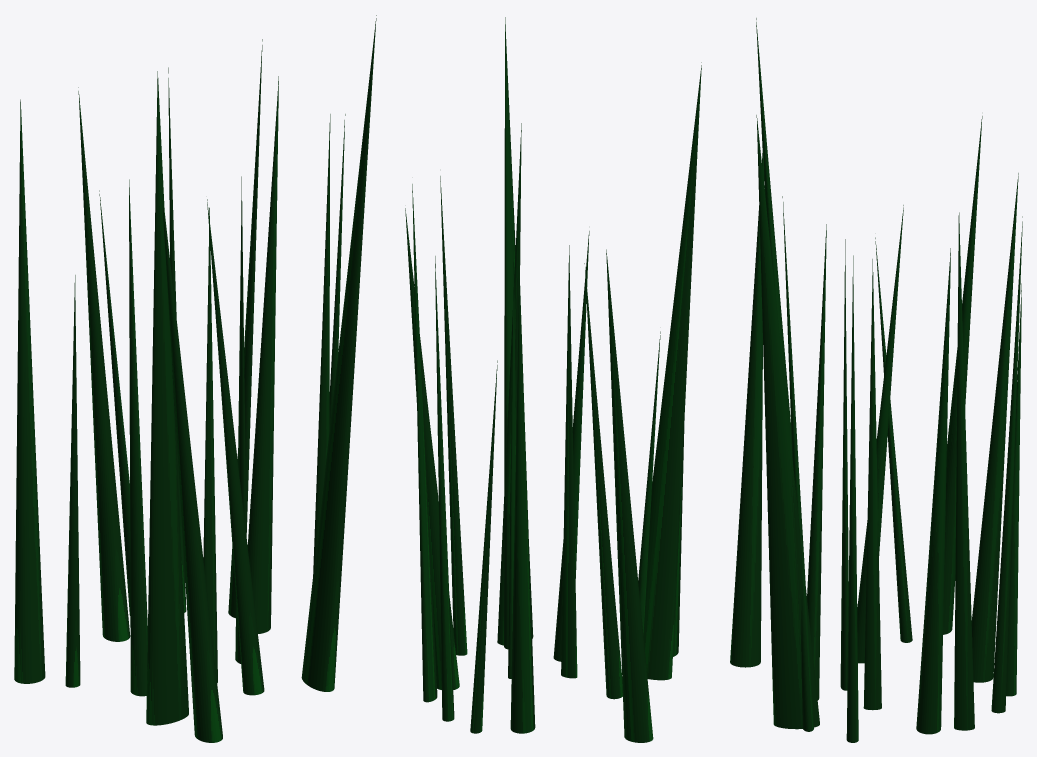
The model's file is ObjectTallGrass.dae.
3 renders of one model, left to right at view 1: azimuth 30°, elevation 25°; view 2: azimuth 150°, elevation 25°; view 3: azimuth 270°, elevation 25°, orthographic. The views are drawn at different scales.
Parts seen in each view (by area): view 1: Cone.015, Cone, Cone.014, Cone.001, Cone.002, Cone.013, Cone.006, Cone.009, Cone.004, Cone.012, Cone.010, Cone.005 (+4 smaller); view 2: Cone.015, Cone.014, Cone.002, Cone.009, Cone.005, Cone.012, Cone, Cone.013, Cone.008, Cone.007, Cone.011, Cone.010 (+4 smaller); view 3: Cone, Cone.001, Cone.002, Cone.013, Cone.005, Cone.003, Cone.014, Cone.007, Cone.006, Cone.008, Cone.009, Cone.010 (+4 smaller).
Part boxes in pixels (<box>): Cone.015: <box>146,71,188,725</box>; Cone: <box>301,15,376,691</box>; Cone.014: <box>14,99,45,683</box>; Cone.001: <box>163,200,222,742</box>; Cone.002: <box>78,87,130,641</box>; Cone.013: <box>247,76,278,633</box>; Cone.006: <box>207,199,264,695</box>; Cone.009: <box>129,179,147,696</box>; Cone.004: <box>65,275,80,687</box>; Cone.012: <box>203,207,217,682</box>; Cone.010: <box>313,114,330,578</box>; Cone.005: <box>228,39,262,618</box>; Cone.015: <box>643,62,701,680</box>; Cone.014: <box>606,249,653,742</box>; Cone.002: <box>510,266,535,733</box>; Cone.009: <box>584,263,622,699</box>; Cone.005: <box>412,184,437,702</box>; Cone.012: <box>561,245,577,678</box>; Cone: <box>504,17,533,649</box>; Cone.013: <box>405,208,459,689</box>; Cone.008: <box>440,176,467,655</box>; Cone.007: <box>435,256,454,721</box>; Cone.011: <box>470,360,497,733</box>; Cone.010: <box>497,123,521,645</box>; Cone: <box>756,115,819,729</box>; Cone.001: <box>730,146,764,667</box>; Cone.002: <box>971,173,1018,682</box>; Cone.013: <box>916,248,950,734</box>; Cone.005: <box>954,212,974,730</box>; Cone.003: <box>863,259,881,710</box>; Cone.014: <box>943,116,982,634</box>; Cone.007: <box>991,216,1022,713</box>; Cone.006: <box>807,224,826,700</box>; Cone.008: <box>846,255,858,742</box>; Cone.009: <box>857,205,903,663</box>; Cone.010: <box>782,196,813,731</box>.
Bounding box in the file's own units: 2.49 × 2.41 × 5.69.
1 material, 1 textured.
